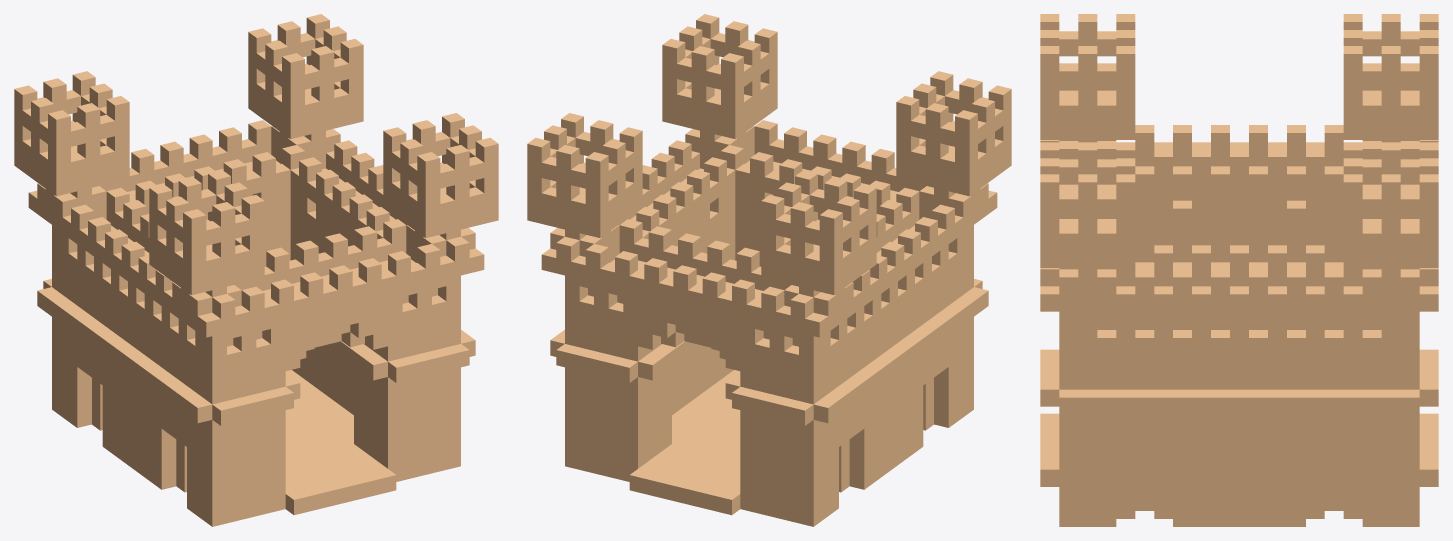
Rendered from castle.obj.
3 views of the same model, side by side, from view 1: azimuth 30°, elevation 25°; view 2: azimuth 150°, elevation 25°; view 3: azimuth 270°, elevation 25° (orthographic). The views are drawn at different scales.
Bounding box in the file's own units: 2.1 × 2.1 × 2.1.
